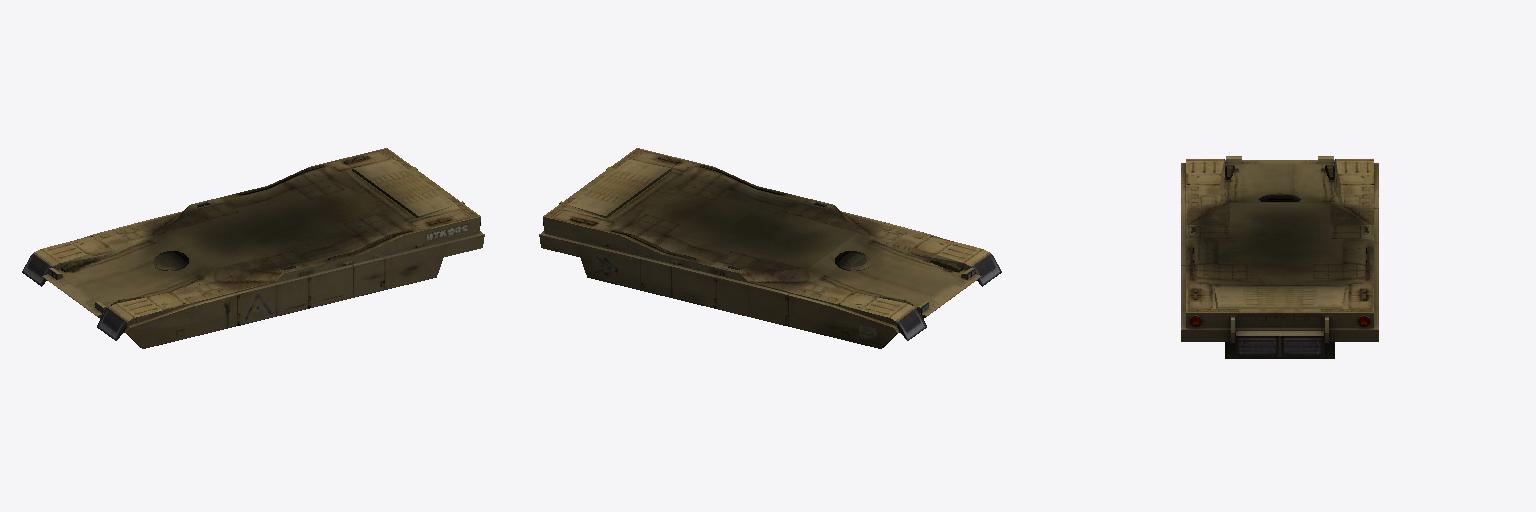
The picture shows the model from 3 angles: view 1: azimuth 30°, elevation 25°; view 2: azimuth 150°, elevation 25°; view 3: azimuth 270°, elevation 25°; orthographic projection.
Visible parts, largest first — view 1: Cylinder01; view 2: Cylinder01; view 3: Cylinder01.
Part boxes in pixels (left/top/right/bottom): Cylinder01: left=22, top=148, right=484, bottom=348; Cylinder01: left=539, top=148, right=1001, bottom=348; Cylinder01: left=1181, top=156, right=1378, bottom=358.
Size of the model in its own units: 17.2 by 2.84 by 7.88.
1 materials, 1 textured.